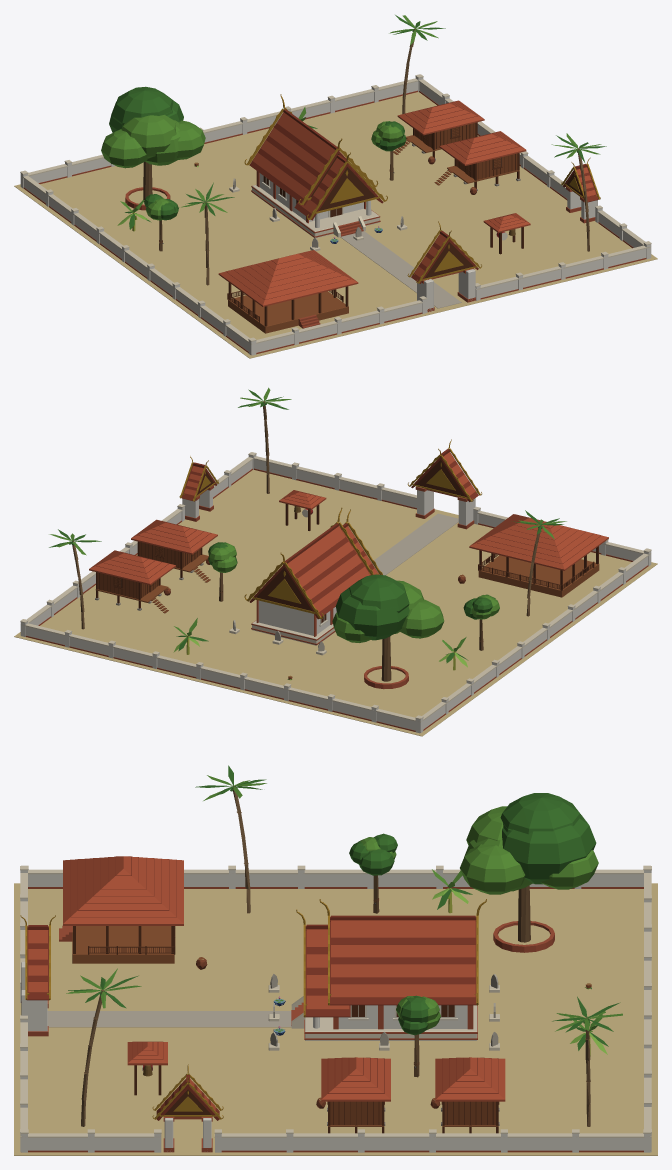
The model's file is temple_1.glb.
3 views of the same model, one above another, from view 1: azimuth 30°, elevation 25°; view 2: azimuth 150°, elevation 25°; view 3: azimuth 270°, elevation 25° (orthographic). The views are drawn at different scales.
Visible parts, largest first — view 1: body; view 2: body; view 3: body.
Boxes of the visible parts, <box> form: body: <box>14,15,657,358</box>; body: <box>14,387,657,736</box>; body: <box>14,765,657,1155</box>.
Size of the model in its own units: 47.9 by 12.05 by 47.9.
